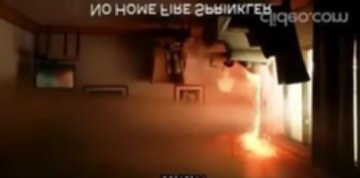fire: (223, 72, 282, 175)
